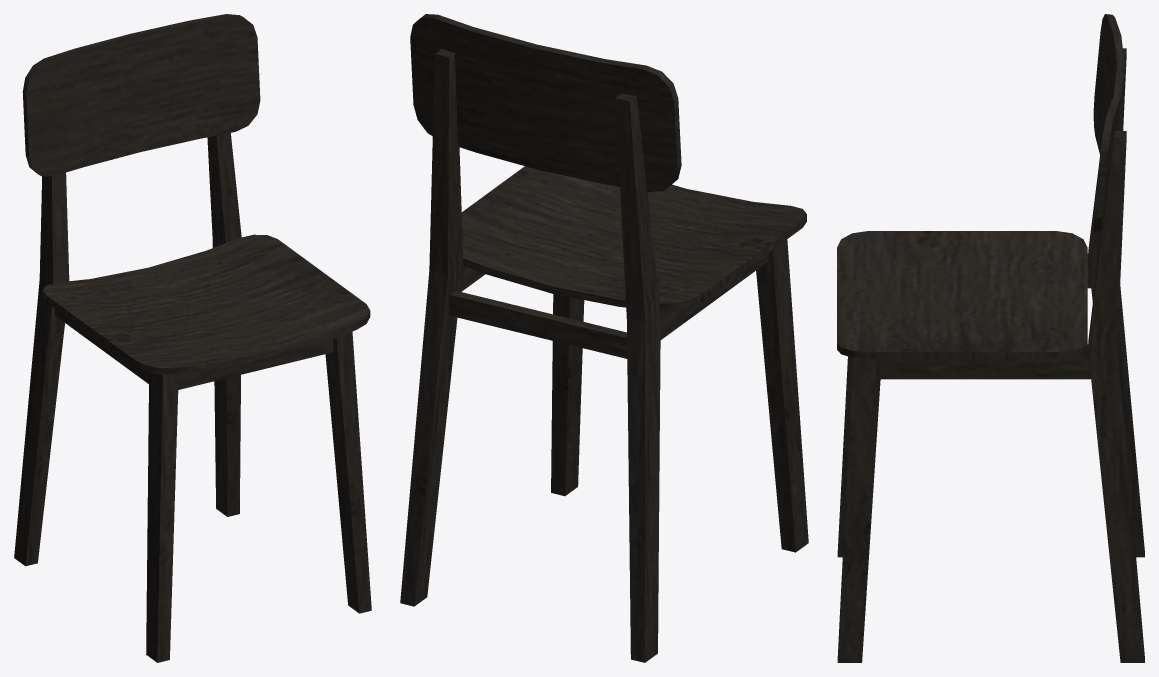
Rendered from chair_mp_3.obj.
The picture shows the model from 3 angles, left to right: view 1: azimuth 30°, elevation 25°; view 2: azimuth 150°, elevation 25°; view 3: azimuth 270°, elevation 25°; orthographic projection. The views are drawn at different scales.
Parts seen in each view (by area): view 1: chair_mp_3; view 2: chair_mp_3; view 3: chair_mp_3.
Part boxes in pixels (bbox=[...]): chair_mp_3: bbox=[14, 14, 371, 662]; chair_mp_3: bbox=[400, 14, 808, 662]; chair_mp_3: bbox=[837, 14, 1144, 662].
Bounding box in the file's own units: 0.4763 × 0.9967 × 0.5126.
